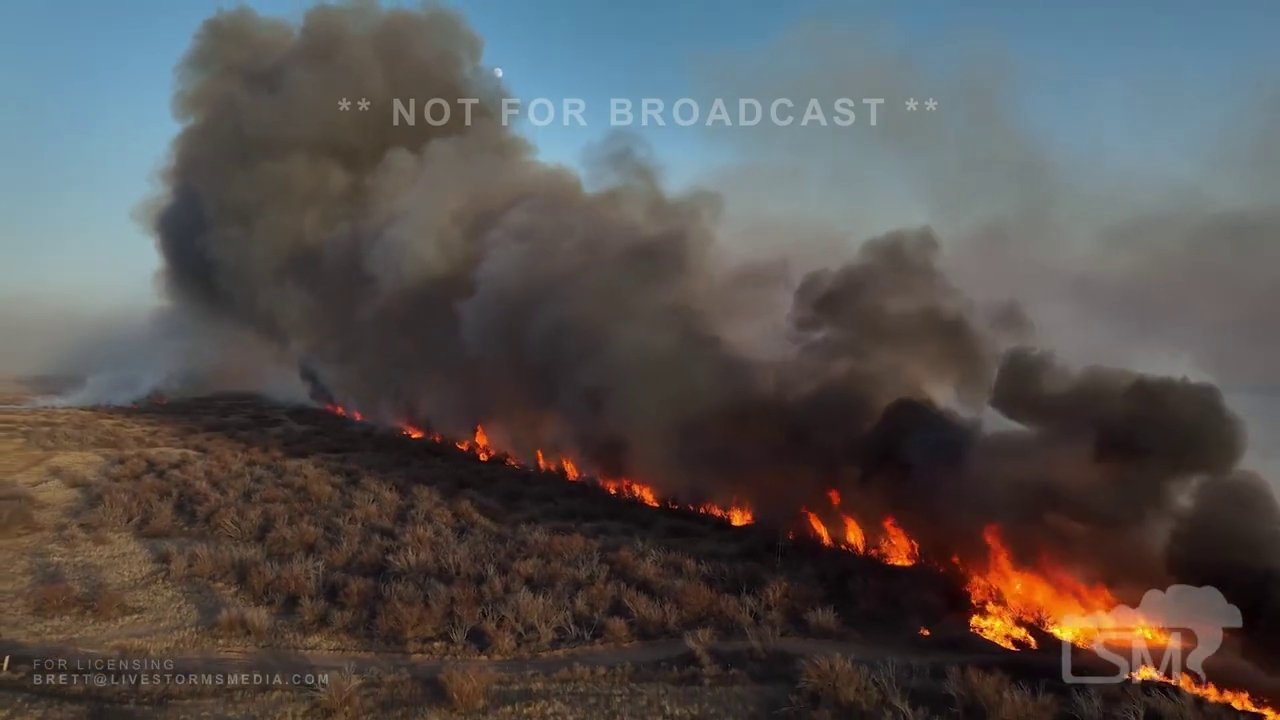forest_fire: (950, 526, 1181, 656), (535, 450, 754, 525), (1117, 654, 1279, 719), (801, 490, 922, 566), (455, 426, 524, 466), (401, 425, 443, 441)
